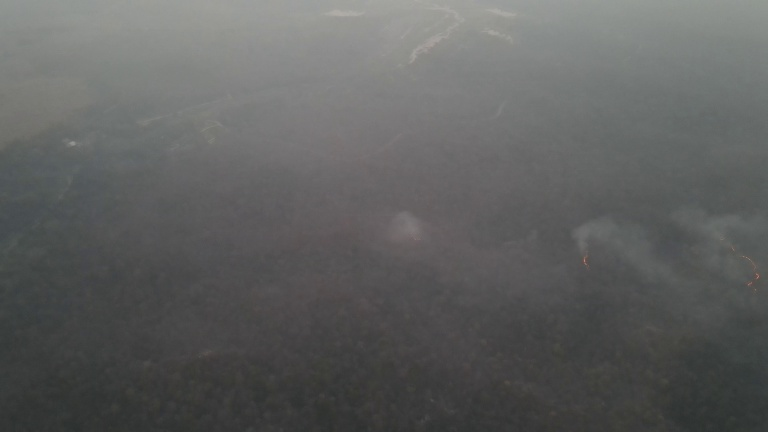fire: (721, 236, 762, 298), (579, 246, 595, 271)
smoke: (564, 207, 674, 297), (682, 200, 750, 313), (372, 203, 435, 247)
